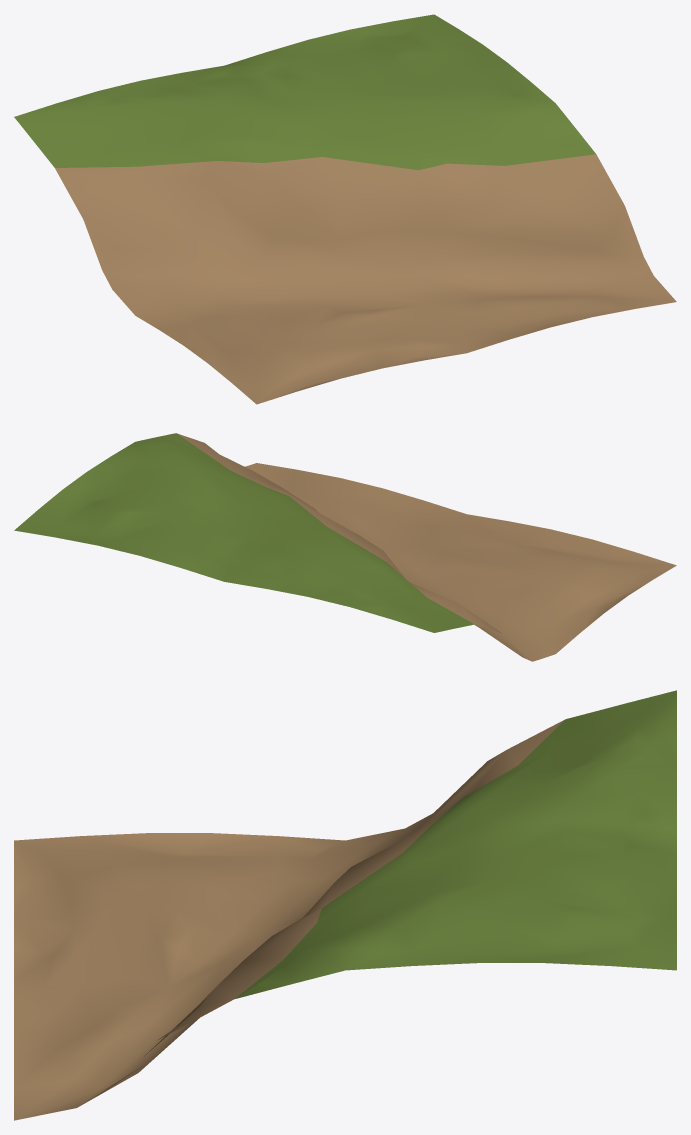
File: rpgpp_av_terrain_lake_02_20x20m.gltf
The picture shows the model from 3 angles, top to bottom: view 1: azimuth 30°, elevation 25°; view 2: azimuth 150°, elevation 25°; view 3: azimuth 270°, elevation 25°; orthographic projection. The views are drawn at different scales.
Visible parts, largest first — view 1: rpgpp_av_terrain_lake_02_20x20m; view 2: rpgpp_av_terrain_lake_02_20x20m; view 3: rpgpp_av_terrain_lake_02_20x20m.
Part boxes in pixels (left/top/right/bottom): rpgpp_av_terrain_lake_02_20x20m: left=14, top=14, right=676, bottom=404; rpgpp_av_terrain_lake_02_20x20m: left=14, top=433, right=676, bottom=661; rpgpp_av_terrain_lake_02_20x20m: left=14, top=690, right=676, bottom=1120.
Size of the model in its own units: 0.2 by 0.0542 by 0.2.
Materials: 1 (1 with a texture image).
